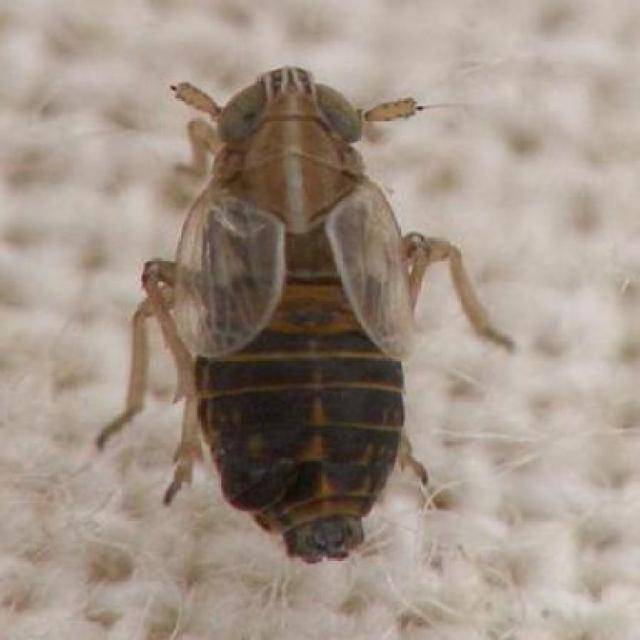brown-planthopper: (158, 60, 412, 563)
